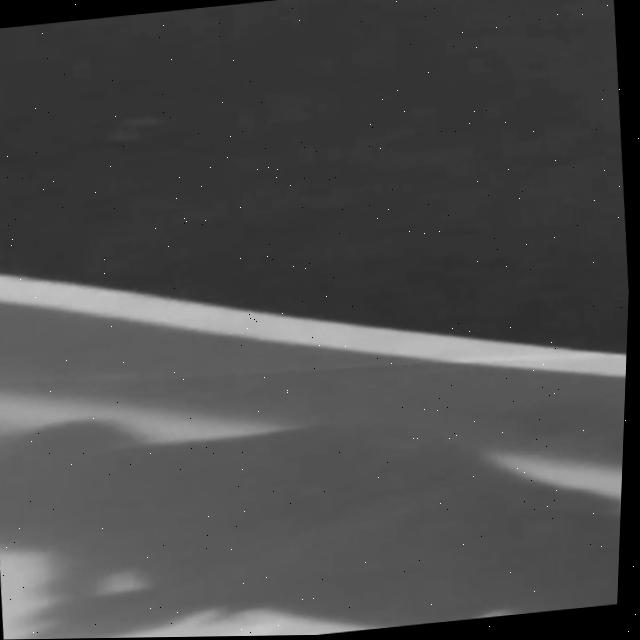right: (0, 273, 627, 375)
